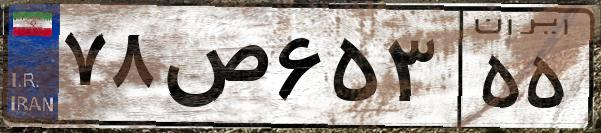3: (385, 28, 445, 110)
5: (330, 28, 385, 110), (475, 38, 525, 113), (525, 38, 570, 115)
6: (270, 28, 330, 110)
7: (57, 26, 110, 100)
8: (110, 28, 158, 98)
ص: (158, 20, 270, 120)
